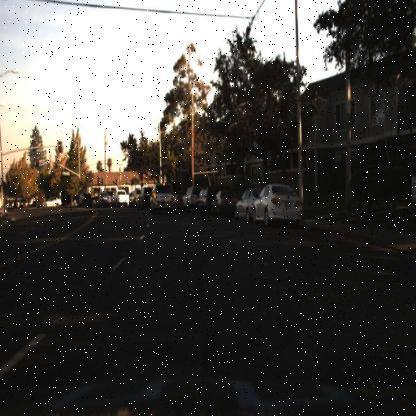car: (250, 176, 306, 228), (150, 181, 176, 214), (208, 186, 237, 215), (233, 186, 252, 224), (178, 183, 200, 212), (193, 184, 212, 217), (178, 186, 198, 212), (196, 188, 216, 214), (75, 187, 96, 211), (213, 188, 231, 214), (93, 187, 113, 209), (111, 186, 129, 209), (112, 190, 132, 210), (77, 190, 96, 210), (90, 190, 113, 206), (42, 194, 61, 211), (138, 186, 150, 209), (128, 188, 140, 206)
trafficLight-Red: (34, 155, 42, 171), (52, 155, 60, 169), (77, 173, 82, 186)
